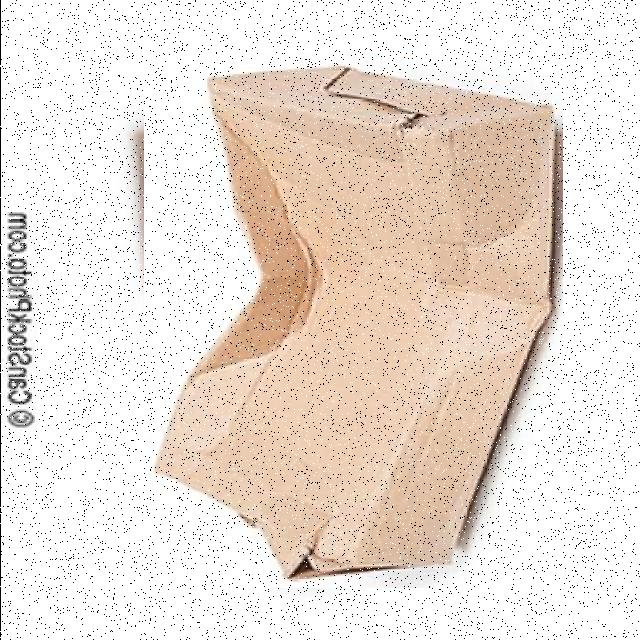defect: (143, 64, 562, 588)
